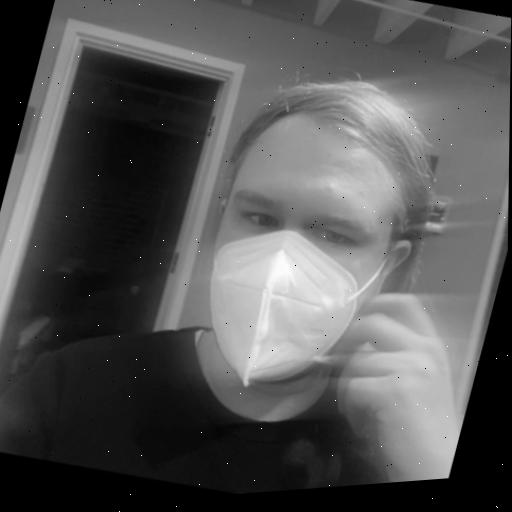mask: (154, 48, 455, 461)
